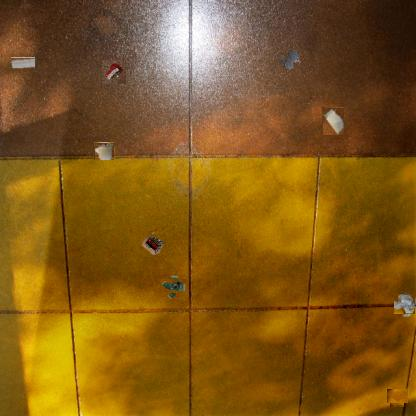dirty: (322, 107, 344, 135), (102, 60, 126, 84), (142, 232, 166, 256), (394, 293, 416, 315), (163, 276, 183, 297), (94, 142, 115, 160), (11, 57, 35, 68)
liquid: (388, 387, 406, 405), (282, 51, 300, 69)
